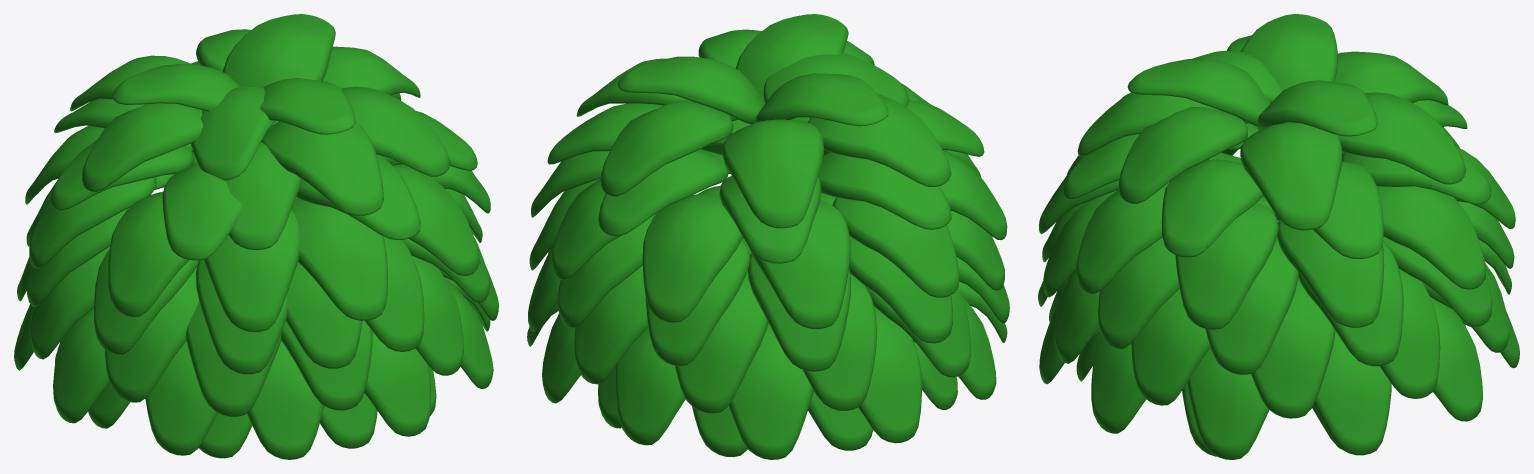
The model's file is Bush2.fbx.
3 renders of one model, left to right at view 1: azimuth 30°, elevation 25°; view 2: azimuth 150°, elevation 25°; view 3: azimuth 270°, elevation 25°, orthographic.
Visible parts, largest first — view 1: Bush2; view 2: Bush2; view 3: Bush2.
Boxes of the visible parts, x1,y1,x2,y2 form: Bush2: [14, 14, 498, 459]; Bush2: [527, 14, 1009, 459]; Bush2: [1038, 14, 1519, 459].
Size of the model in its own units: 0.4034 by 0.2917 by 0.4038.
